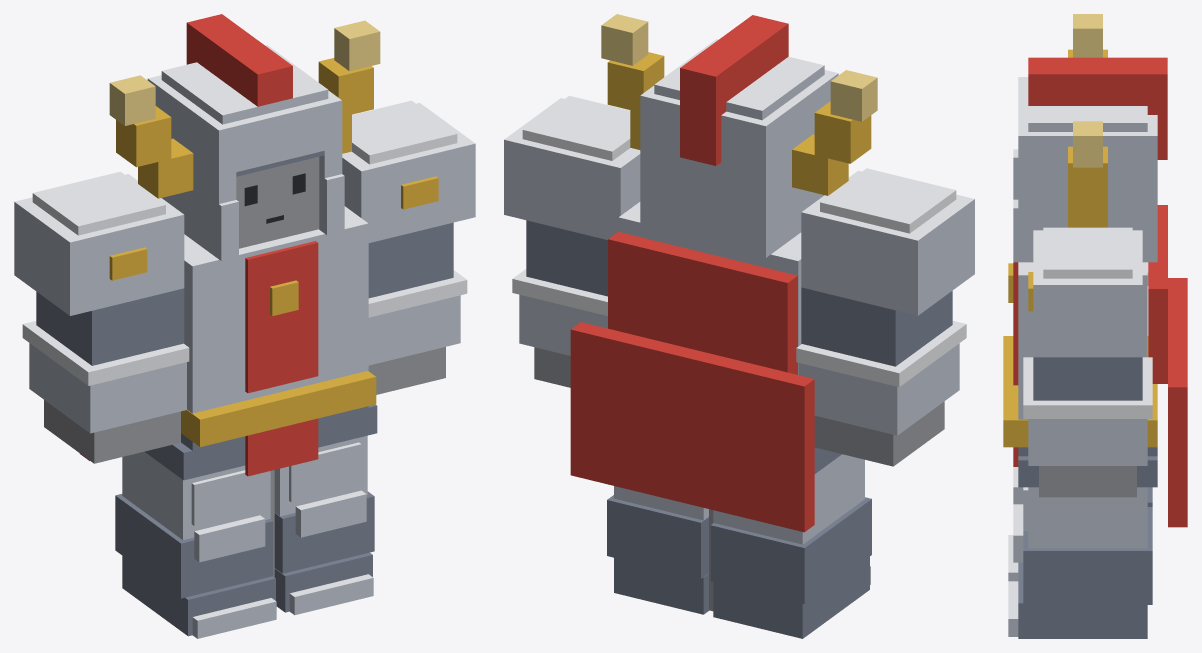
Rendered from warden_set.glb.
3 renders of one model, left to right at view 1: azimuth 30°, elevation 25°; view 2: azimuth 150°, elevation 25°; view 3: azimuth 270°, elevation 25°, orthographic. The views are drawn at different scales.
Parts seen in each view (by area): view 1: Helm, Breastplate, UpperArm_L, UpperArm_R, Belt_Skirt, Forearm_L, Shin_L, Thigh_L, Forearm_R, Shin_R, Boot_L, Avatar_Head (+4 smaller); view 2: Cape, Helm, UpperArm_L, UpperArm_R, Forearm_L, Shin_L, Shin_R, Boot_L, Forearm_R, Thigh_L, Avatar_Arm_L, Boot_R (+3 smaller); view 3: Helm, UpperArm_R, Forearm_R, Shin_R, Cape, Thigh_R, Boot_R, Belt_Skirt, Avatar_Arm_R, Breastplate, Shin_L, Boot_L.
Boxes of the visible parts, bbox=[...] form: Helm: bbox=[109, 14, 380, 260]; Breastplate: bbox=[184, 206, 368, 413]; UpperArm_L: bbox=[14, 171, 184, 365]; UpperArm_R: bbox=[342, 100, 475, 298]; Belt_Skirt: bbox=[145, 371, 377, 480]; Forearm_L: bbox=[22, 321, 189, 433]; Shin_L: bbox=[115, 494, 273, 598]; Thigh_L: bbox=[122, 451, 270, 539]; Forearm_R: bbox=[368, 270, 467, 365]; Shin_R: bbox=[274, 490, 374, 573]; Boot_L: bbox=[122, 556, 276, 638]; Avatar_Head: bbox=[236, 156, 319, 248]; Cape: bbox=[570, 231, 814, 532]; Helm: bbox=[601, 14, 877, 257]; UpperArm_L: bbox=[801, 168, 974, 366]; UpperArm_R: bbox=[504, 95, 640, 296]; Forearm_L: bbox=[796, 320, 966, 435]; Shin_L: bbox=[710, 497, 871, 604]; Shin_R: bbox=[607, 495, 708, 578]; Boot_L: bbox=[713, 557, 870, 638]; Forearm_R: bbox=[512, 269, 607, 355]; Thigh_L: bbox=[713, 454, 864, 544]; Avatar_Arm_L: bbox=[814, 401, 944, 466]; Boot_R: bbox=[614, 558, 709, 614]; Helm: bbox=[1013, 14, 1167, 262]; UpperArm_R: bbox=[1028, 227, 1142, 400]; Forearm_R: bbox=[1023, 357, 1152, 465]; Shin_R: bbox=[1013, 504, 1152, 604]; Cape: bbox=[1148, 205, 1187, 527]; Thigh_R: bbox=[1023, 487, 1147, 548]; Boot_R: bbox=[1008, 562, 1147, 638]; Belt_Skirt: bbox=[1003, 336, 1157, 487]; Avatar_Arm_R: bbox=[1039, 466, 1136, 497]; Breastplate: bbox=[1008, 262, 1147, 419]; Shin_L: bbox=[1013, 467, 1152, 506]; Boot_L: bbox=[1008, 535, 1018, 581].
Size of the model in its own units: 2.3 by 2.92 by 0.922.
